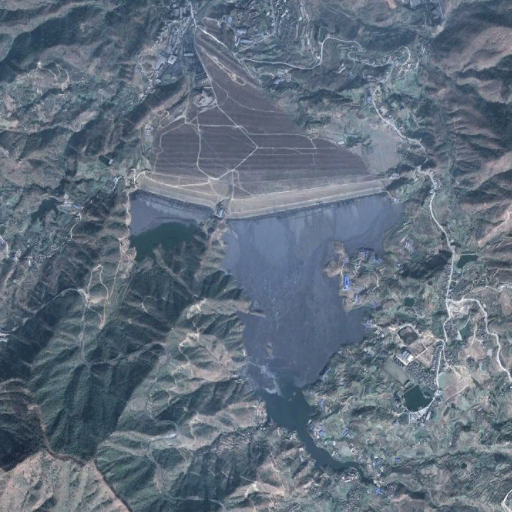tp: (127, 21, 398, 485)
